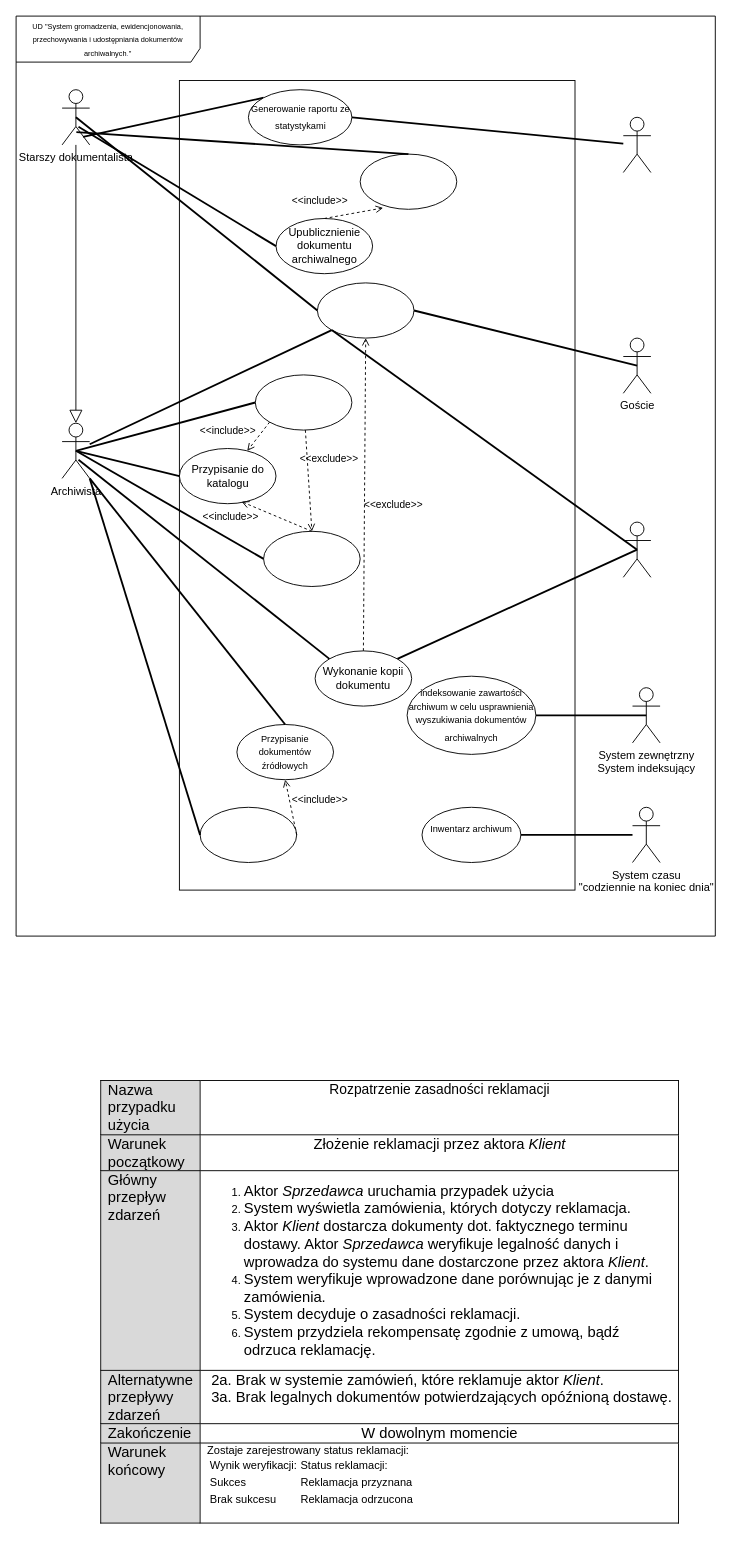
The diagram is 731 pixels wide and 1550 high, and some of its shapes have lost their labels. The shapes that lost their labels are listed below. From the top down, each one's centre as x and y in pixels, then its label:
[636,144]: System czasu "raz na kwartał"
[408,181]: Nadanie poziomu dostępu:"ogólnodostępny", "ograniczony", "tajny"
[365,310]: Przeglądanie dokumentów archiwalnych
[303,402]: Utworzenie nowego katalogu
[311,558]: Dodanie nowego dokumentu archiwalnego
[636,549]: Pracownik obsługi
[248,834]: Wprowadzenie nowego opracowania
